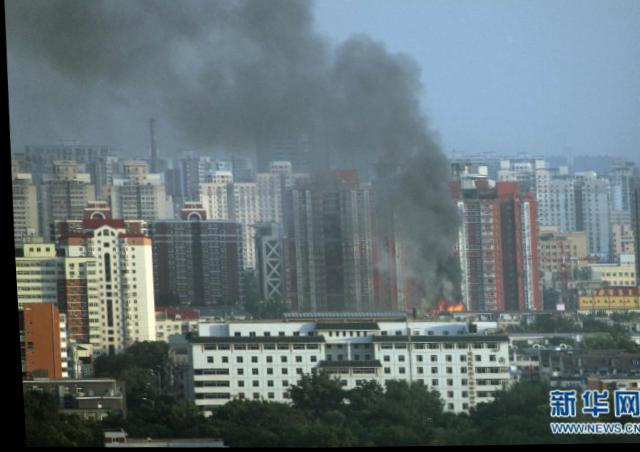fire: (440, 301, 458, 310), (431, 298, 439, 311)
